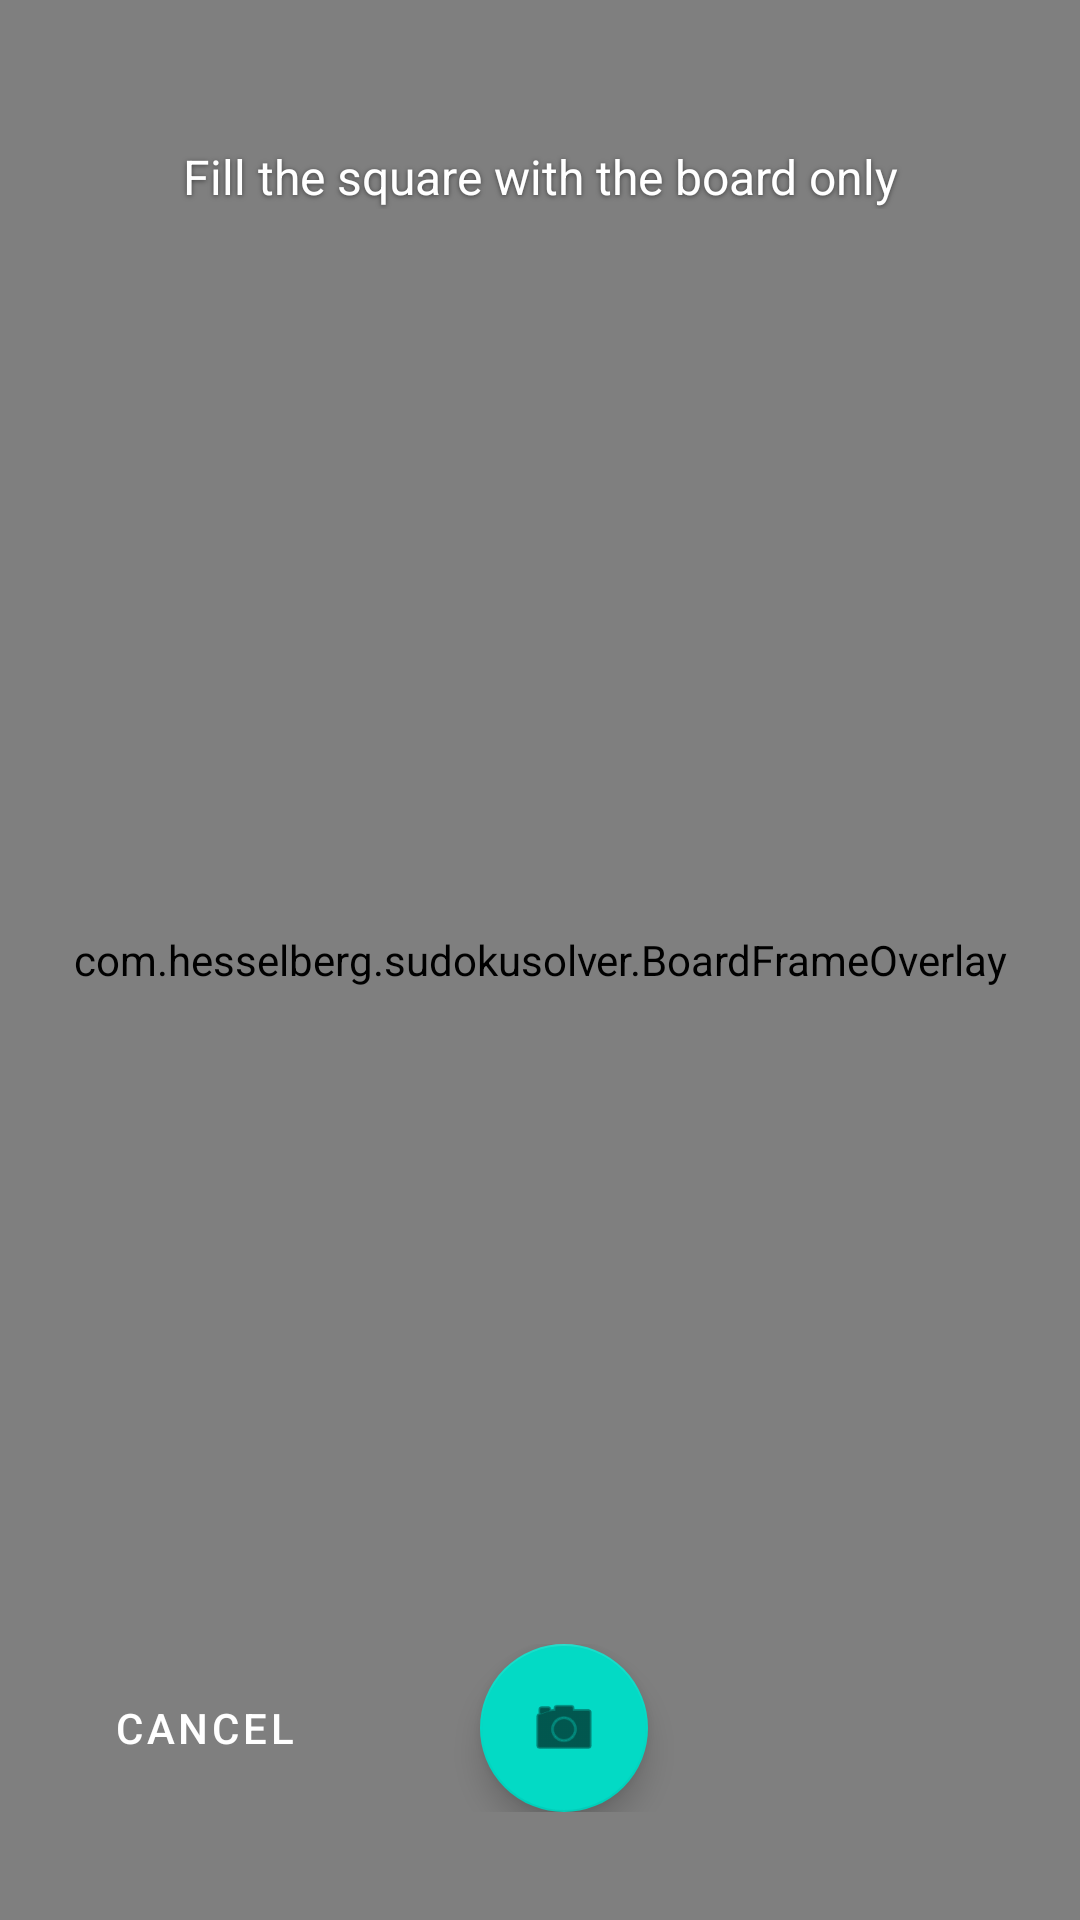

Where icons sit on this 1080px x 1920px app screen, as [left=x1, top=y1, right=x2, bottom=y2]:
Take photo: [left=480, top=1644, right=648, bottom=1812]
